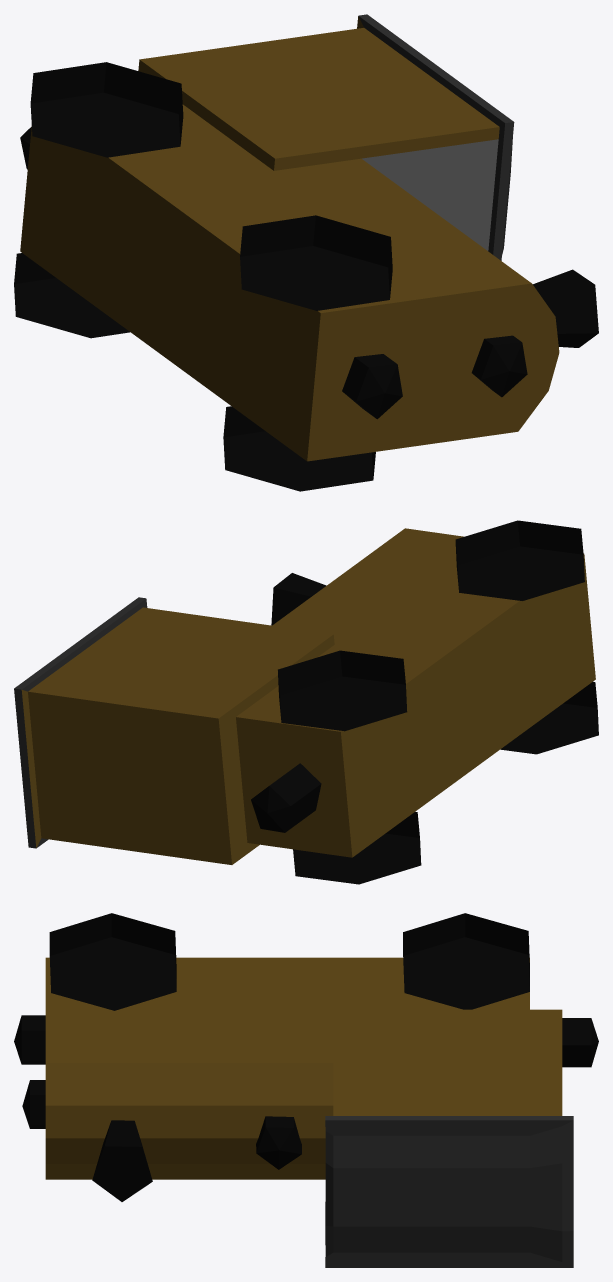
Rendered from locomotief.fbx.
3 renders of one model, top to bottom at view 1: azimuth 30°, elevation 25°; view 2: azimuth 150°, elevation 25°; view 3: azimuth 270°, elevation 25°, orthographic. The views are drawn at different scales.
Parts seen in each view (by area): view 1: Trein Frame; view 2: Trein Frame; view 3: Trein Frame.
Part boxes in pixels (x1,y1,x2,y2): Trein Frame: (14,14,598,491); Trein Frame: (14,520,598,884); Trein Frame: (14,913,598,1267).
Size of the model in its own units: 13.44 by 7.24 by 19.33.
